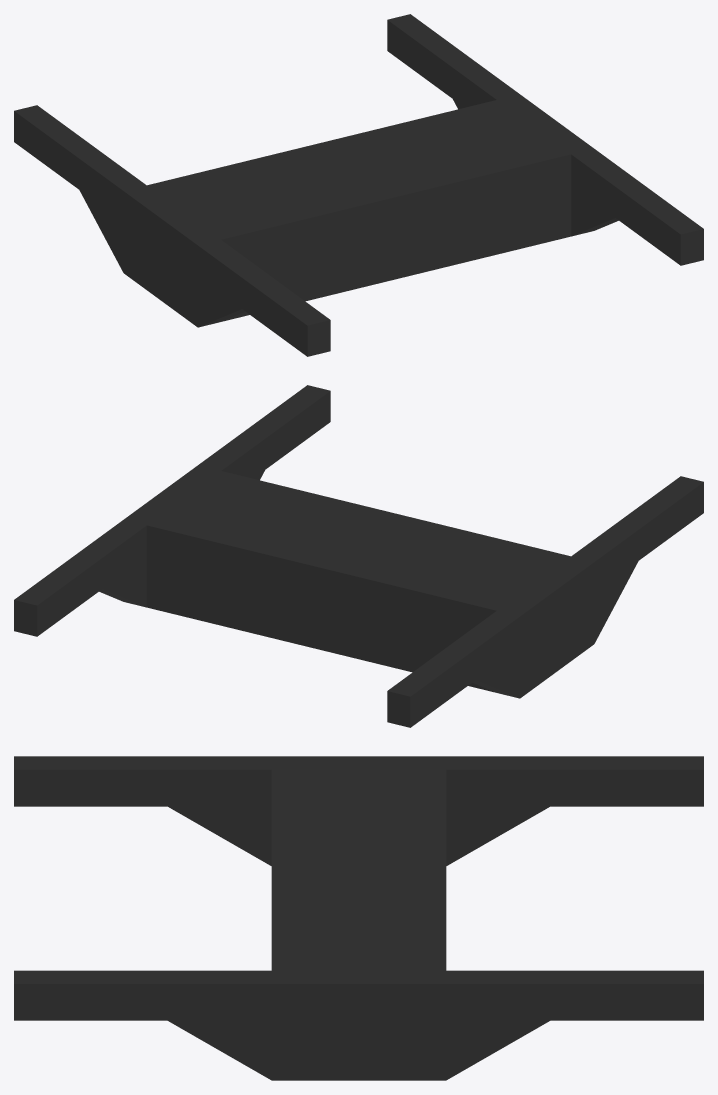
Rendered from train-wagon-hopper-wheel-frame_B.glb.
3 views of the same model, one above another, from view 1: azimuth 30°, elevation 25°; view 2: azimuth 150°, elevation 25°; view 3: azimuth 270°, elevation 25° (orthographic). The views are drawn at different scales.
Visible parts, largest first — view 1: train-wagon-hopper-wheel-frame_B; view 2: train-wagon-hopper-wheel-frame_B; view 3: train-wagon-hopper-wheel-frame_B.
Part boxes in pixels (bbox=[...]): train-wagon-hopper-wheel-frame_B: bbox=[14, 14, 703, 356]; train-wagon-hopper-wheel-frame_B: bbox=[14, 385, 703, 727]; train-wagon-hopper-wheel-frame_B: bbox=[14, 756, 703, 1080].
Bounding box in the file's own units: 1.9 × 0.3756 × 2.43.
Materials: 1 (1 with a texture image).
